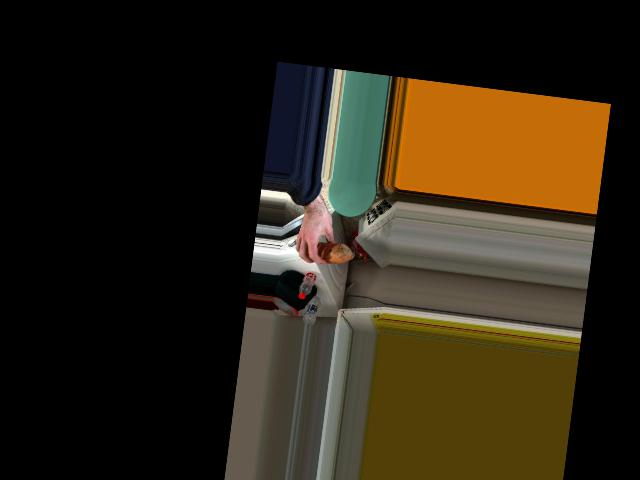sweet_potato: (313, 241, 347, 265)
